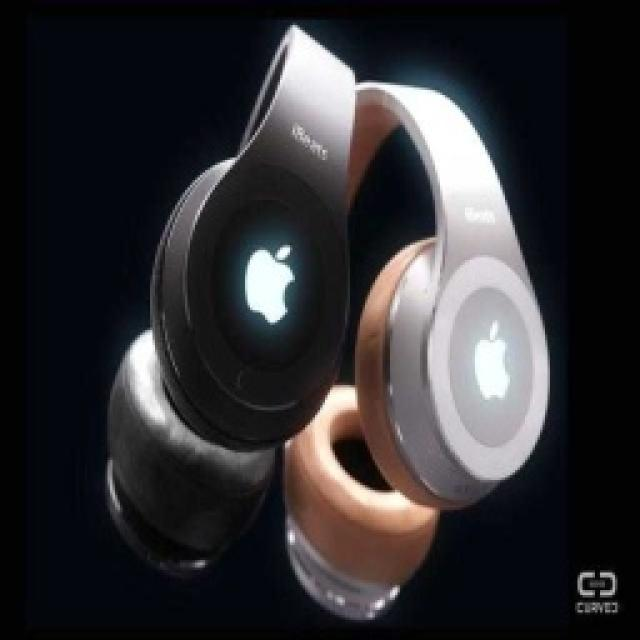headphones: (100, 22, 550, 620)
